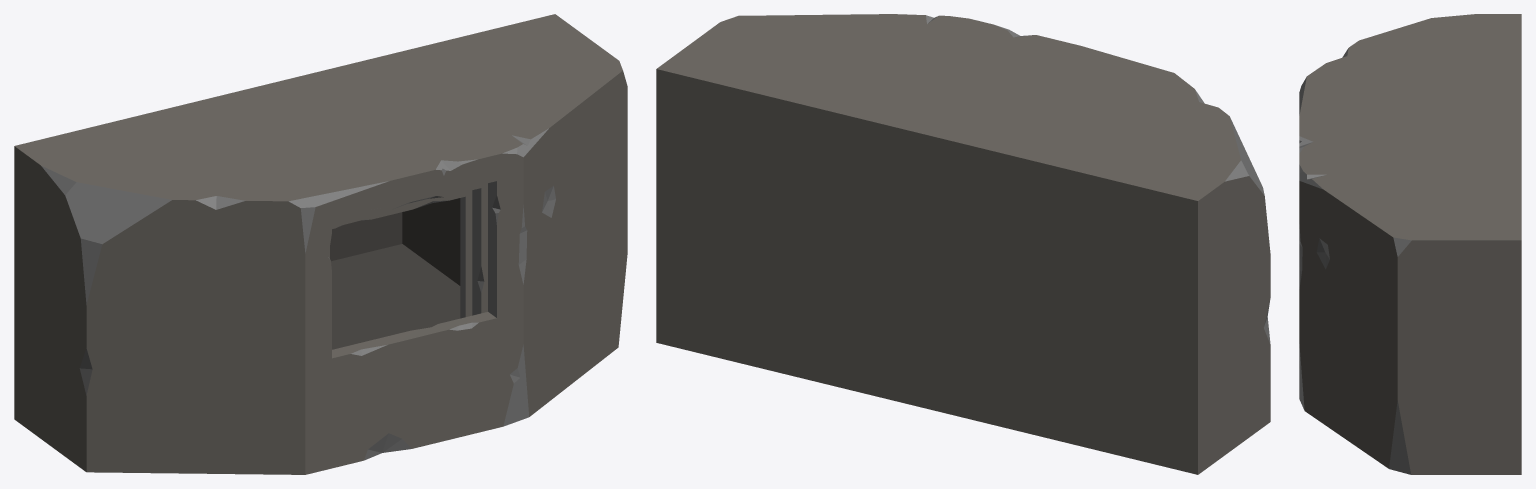
File: 20C_Bunker_01.fbx
3 views of the same model, side by side, from view 1: azimuth 30°, elevation 25°; view 2: azimuth 150°, elevation 25°; view 3: azimuth 270°, elevation 25° (orthographic). The views are drawn at different scales.
Visible parts, largest first — view 1: 20C_Bunker_01; view 2: 20C_Bunker_01; view 3: 20C_Bunker_01.
Boxes of the visible parts, box(x1,y1,x2,y2) form: 20C_Bunker_01: box(14, 14, 627, 474); 20C_Bunker_01: box(656, 14, 1270, 474); 20C_Bunker_01: box(1299, 14, 1521, 474).
Bounding box in the file's own units: 129 × 62.47 × 53.71.
